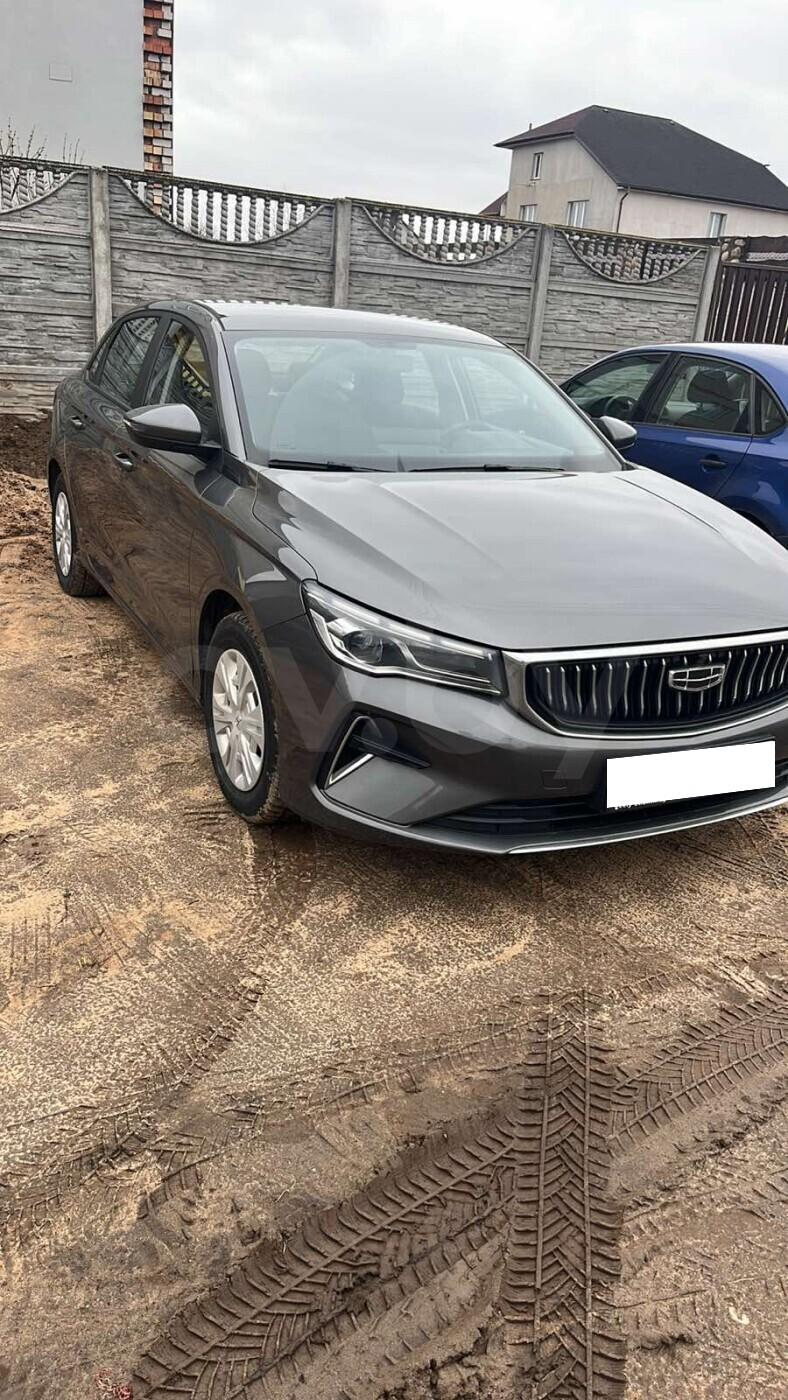Emgrand_2021: (42, 296, 788, 864)
